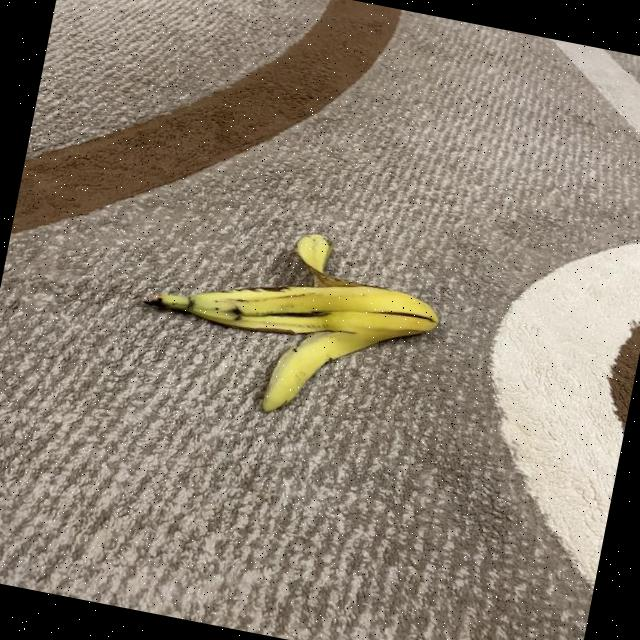banana-peel: (125, 203, 451, 442)
